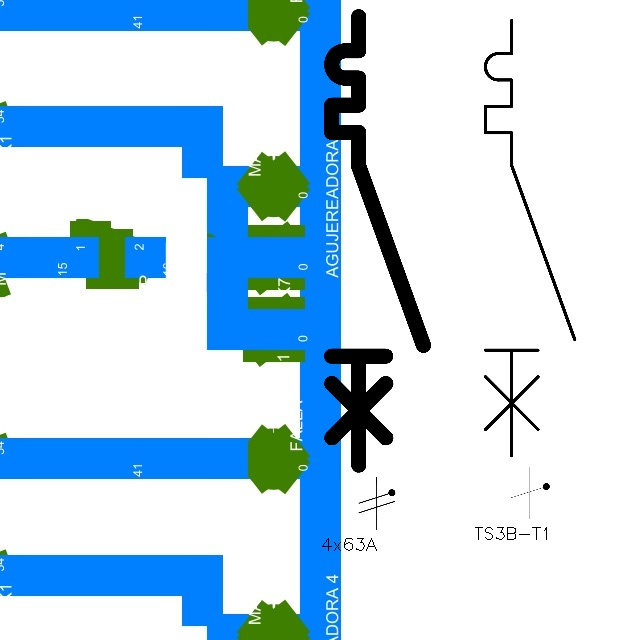interruptor_termomagnetico: (320, 5, 435, 476), (474, 9, 586, 467)
